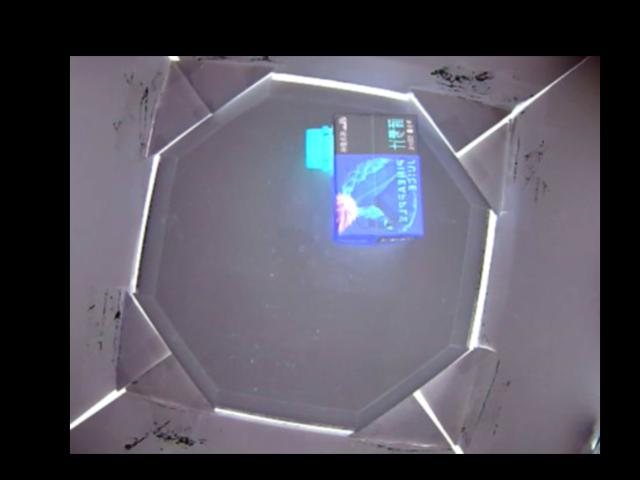Bottle: (303, 109, 426, 242)
